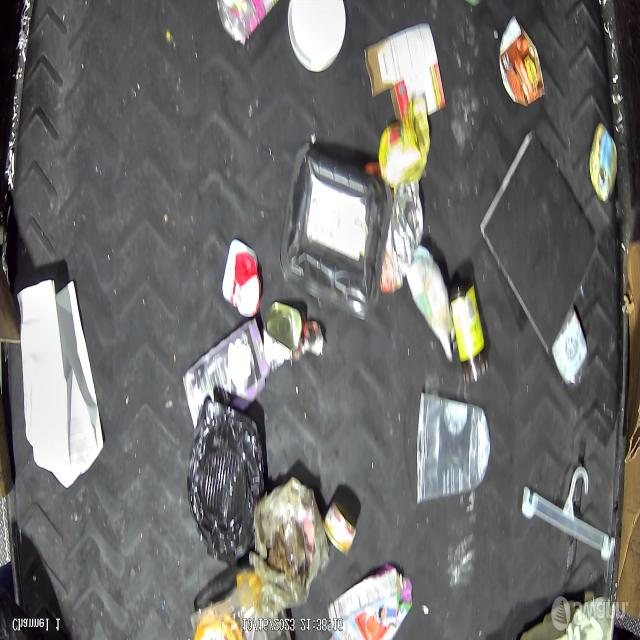can: (263, 302, 303, 372), (322, 497, 357, 557)
